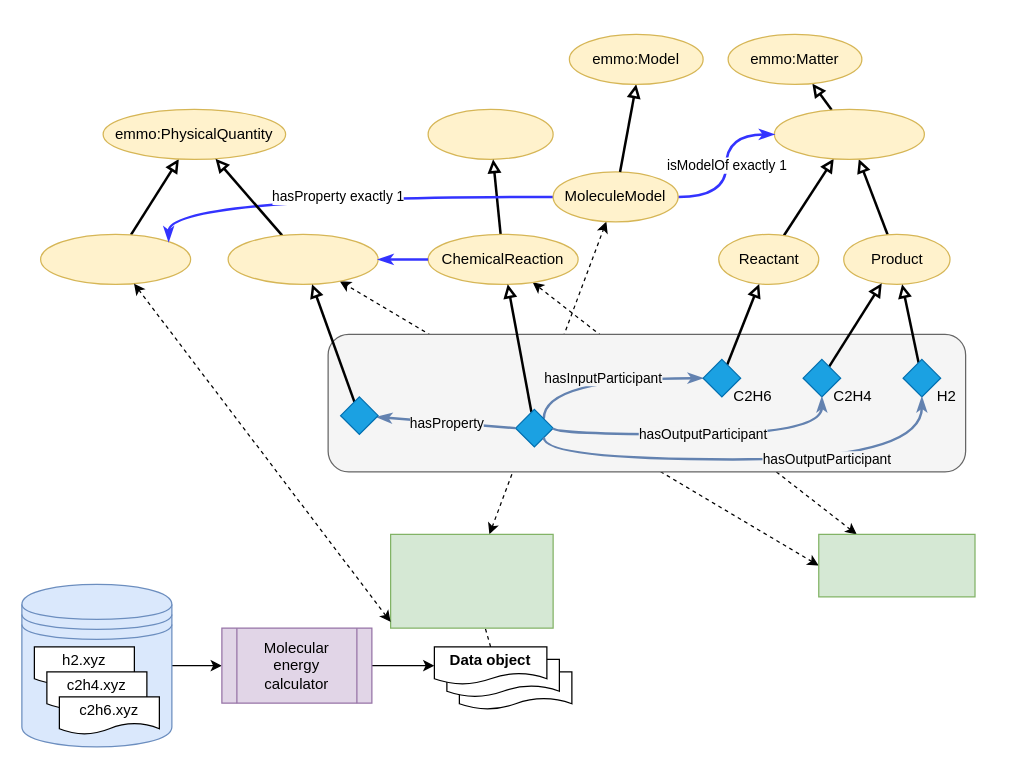
Image size: 1021x769. Some labels were removed from this diagram. Here are the shapes that lost their labels. From the top down, the box of each, then its label:
(427, 108, 553, 159): emmo:Process
(773, 108, 924, 159): ChemicalSubstance
(39, 233, 191, 284): BindingEnergy
(227, 233, 378, 284): ReactionEnergy
(389, 533, 553, 628): Datamodel: Molecule number_of_atoms chemical_symbols positions energy
(818, 533, 975, 597): Datamodel: Reaction reaction_energy ...
